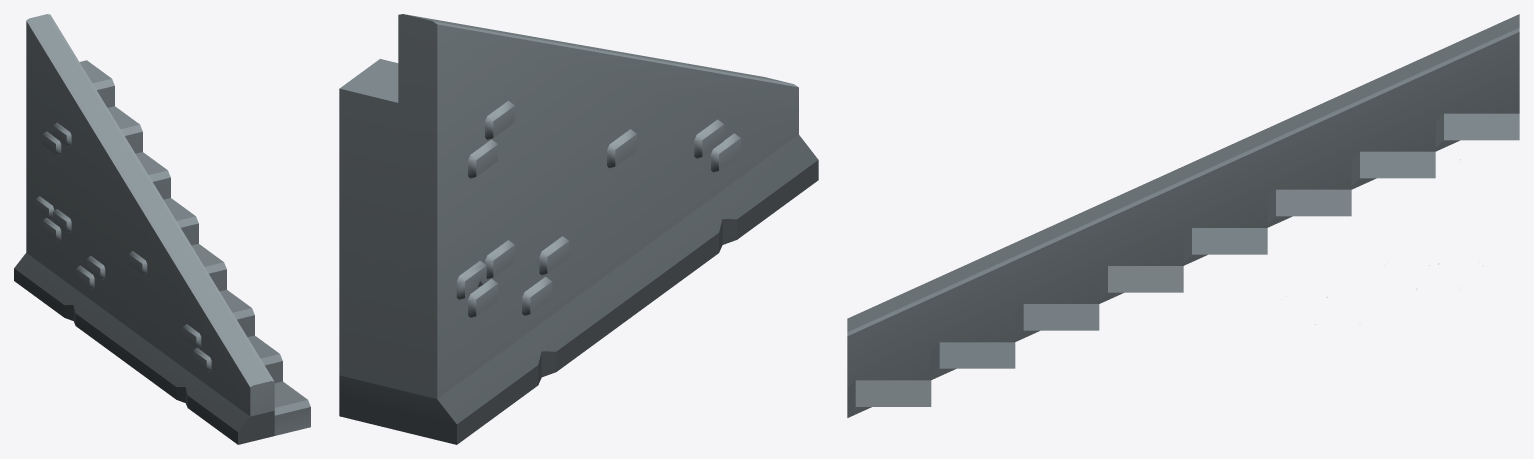
File: stairs_long_modular_left.gltf
3 views of the same model, side by side, from view 1: azimuth 30°, elevation 25°; view 2: azimuth 150°, elevation 25°; view 3: azimuth 270°, elevation 25° (orthographic). The views are drawn at different scales.
Visible parts, largest first — view 1: stairs_long_modular_left; view 2: stairs_long_modular_left; view 3: stairs_long_modular_left.
Boxes of the visible parts, x1=… form: stairs_long_modular_left: x1=14, y1=14, x2=310, y2=444; stairs_long_modular_left: x1=339, y1=14, x2=818, y2=444; stairs_long_modular_left: x1=847, y1=14, x2=1519, y2=417.
Bounding box in the file's own units: 1.5 × 5.1 × 8.
1 material, 1 textured.
